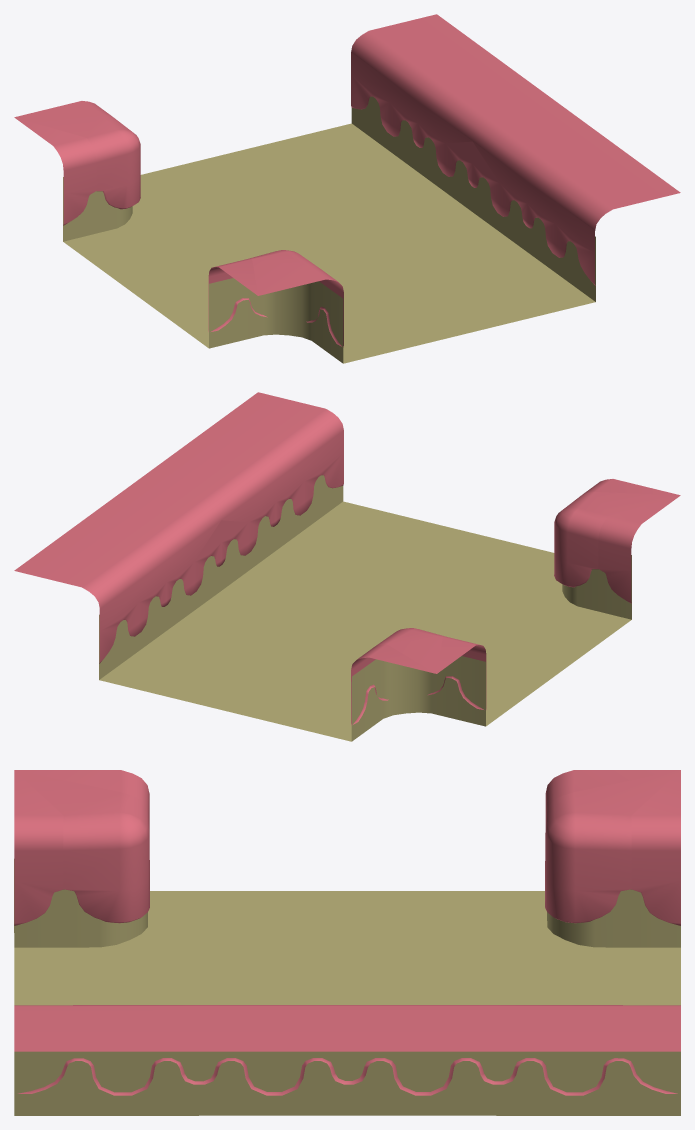
Rendered from SM_Tile_T.fbx.
3 views of the same model, one above another, from view 1: azimuth 30°, elevation 25°; view 2: azimuth 150°, elevation 25°; view 3: azimuth 270°, elevation 25° (orthographic). The views are drawn at different scales.
Visible parts, largest first — view 1: SM_Tile_T; view 2: SM_Tile_T; view 3: SM_Tile_T.
Boxes of the visible parts, left/top/right/bottom form: SM_Tile_T: left=14, top=14, right=680, bottom=363; SM_Tile_T: left=14, top=392, right=680, bottom=741; SM_Tile_T: left=14, top=770, right=680, bottom=1115.
Bounding box in the file's own units: 100 × 20 × 100.
